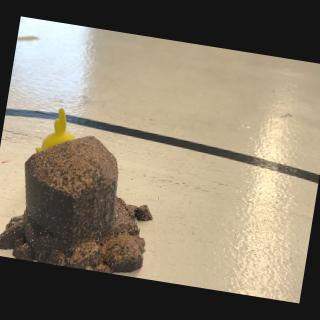teletubby: (36, 108, 76, 153)
